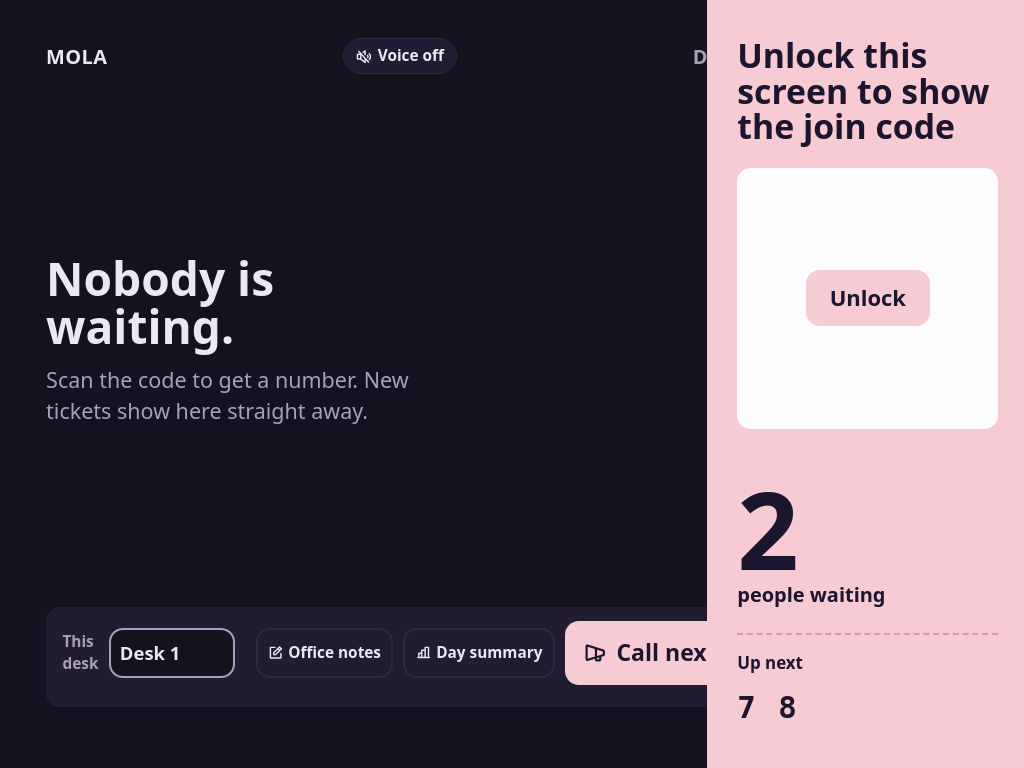
it: staff controls › holds Call next until the server answers
Later steps or results of the test are not shown.
Click the button "Call next": (650, 653) [565,621,735,685]
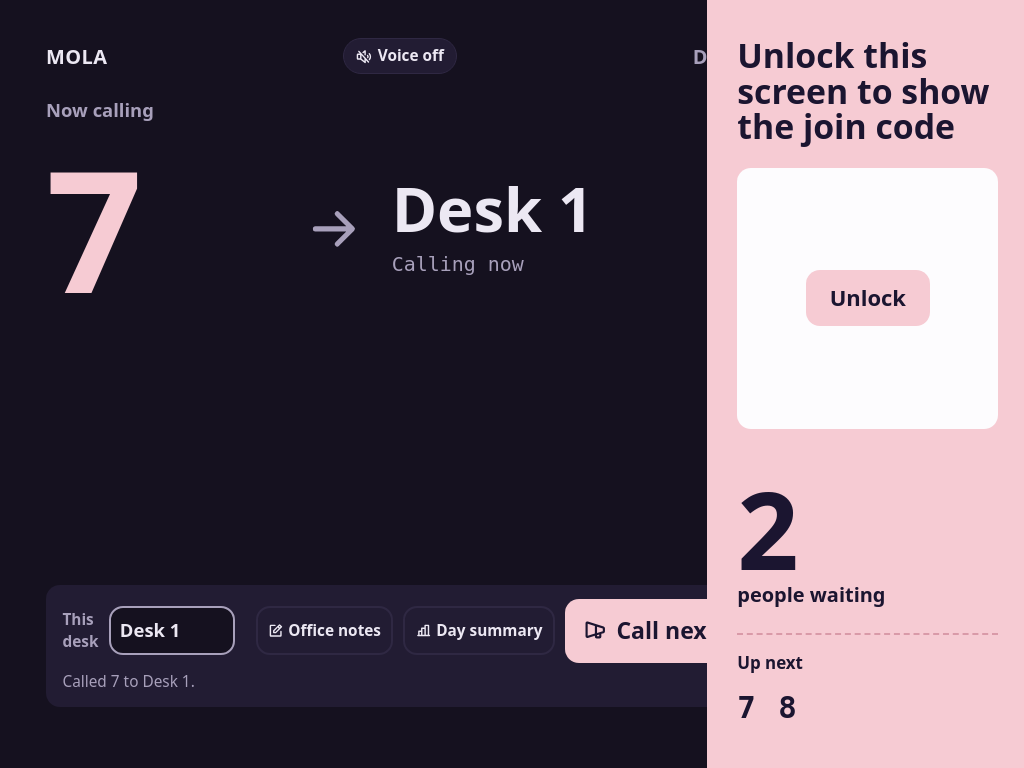
Check: the button "Call next" is enabled, box [565,599,735,663]
Check: the text "Called 7 to Desk 1." is shown, box [62,670,195,692]
